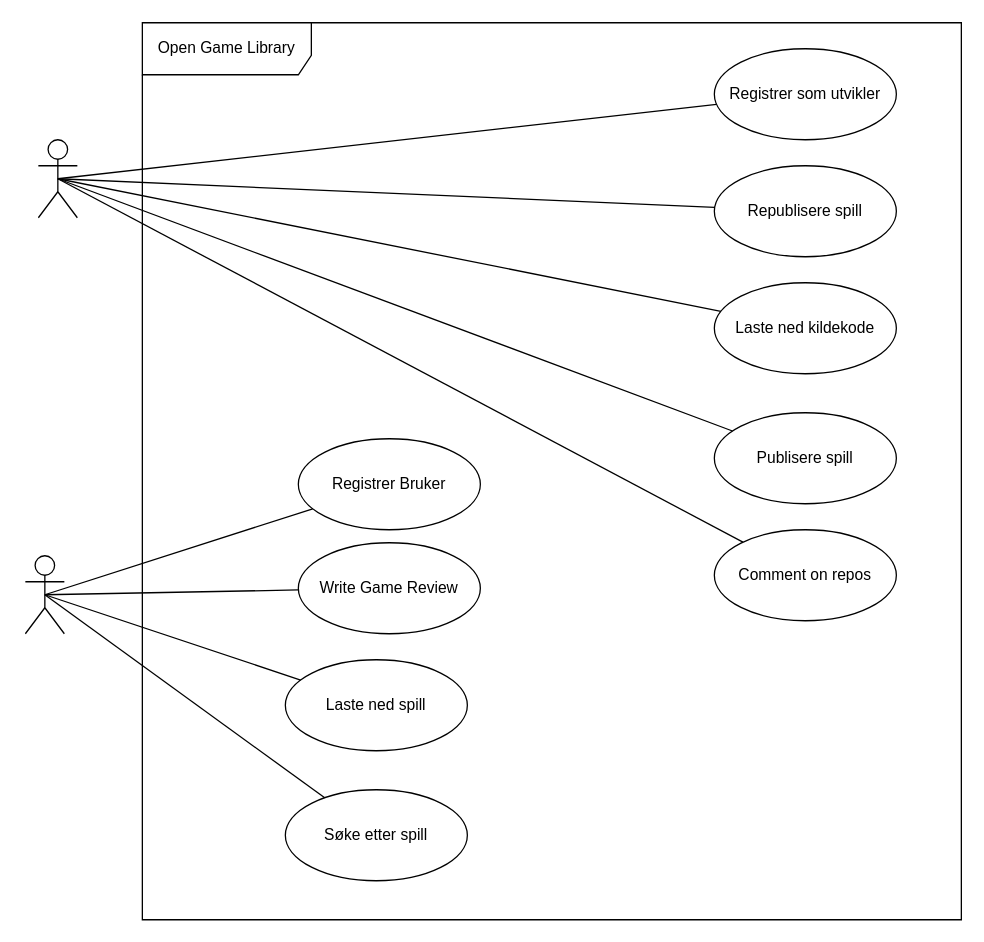
Image size: 984x942. Some labels were removed from this diagram. The shapes that lost their labels are listed below. From the top down, each one's box as (x1, y1, x2, y2) in pixels, then its label:
(37, 138, 77, 218): Utvikler
(24, 554, 64, 634): Bruker
